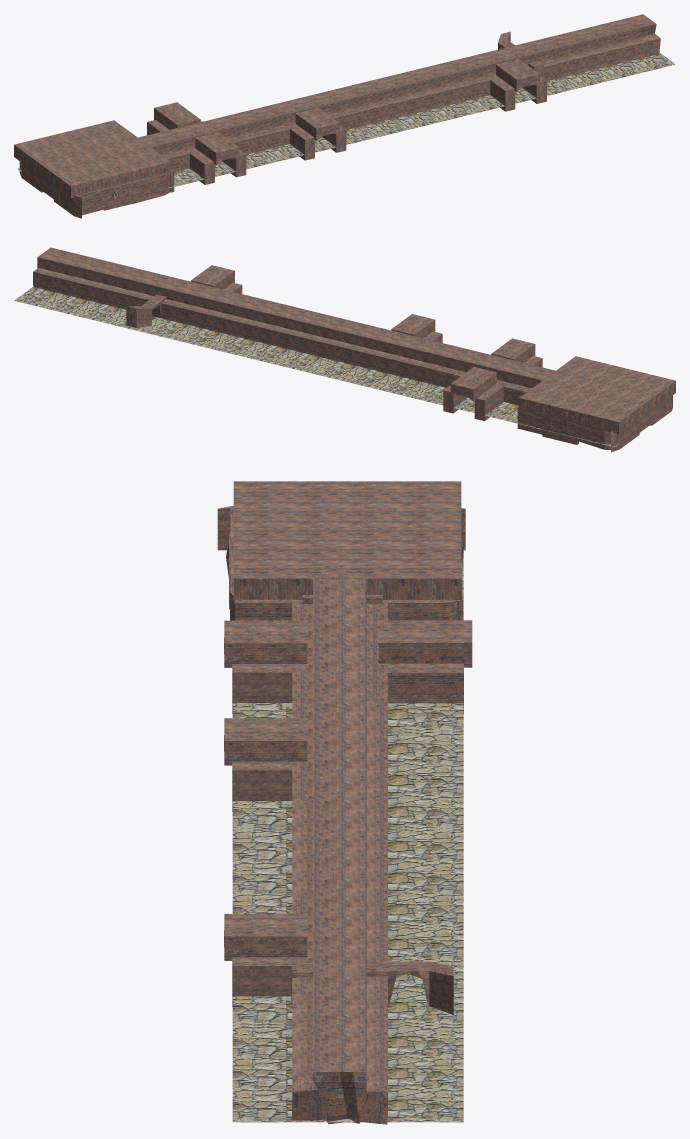
Rendered from mlecznekomnaty.7bc11db4.glb.
3 renders of one model, top to bottom at view 1: azimuth 30°, elevation 25°; view 2: azimuth 150°, elevation 25°; view 3: azimuth 270°, elevation 25°, orthographic. The views are drawn at different scales.
Parts seen in each view (by area): view 1: Hall, PlusShape, LShape, TShape, IShape, End; view 2: Hall, LShape, TShape, PlusShape, IShape, End; view 3: Hall, End, PlusShape, TShape, LShape, IShape.
Boxes of the visible parts, box(x1,y1,x2,y2) form: Hall: box(14, 120, 174, 218); PlusShape: box(138, 102, 274, 186); LShape: box(441, 31, 575, 113); TShape: box(239, 87, 374, 162); IShape: box(343, 63, 475, 137); End: box(540, 14, 675, 88); Hall: box(515, 356, 675, 452); LShape: box(114, 265, 253, 349); TShape: box(315, 314, 455, 398); PlusShape: box(415, 338, 555, 422); IShape: box(214, 296, 350, 373); End: box(14, 247, 153, 324); Hall: box(217, 481, 465, 620); End: box(232, 970, 463, 1124); PlusShape: box(224, 579, 472, 731); TShape: box(224, 676, 463, 828); LShape: box(224, 872, 463, 1024); IShape: box(232, 774, 463, 926).
Bounding box in the file's own units: 121 × 6.26 × 22.05.
45 materials, 45 textured.
